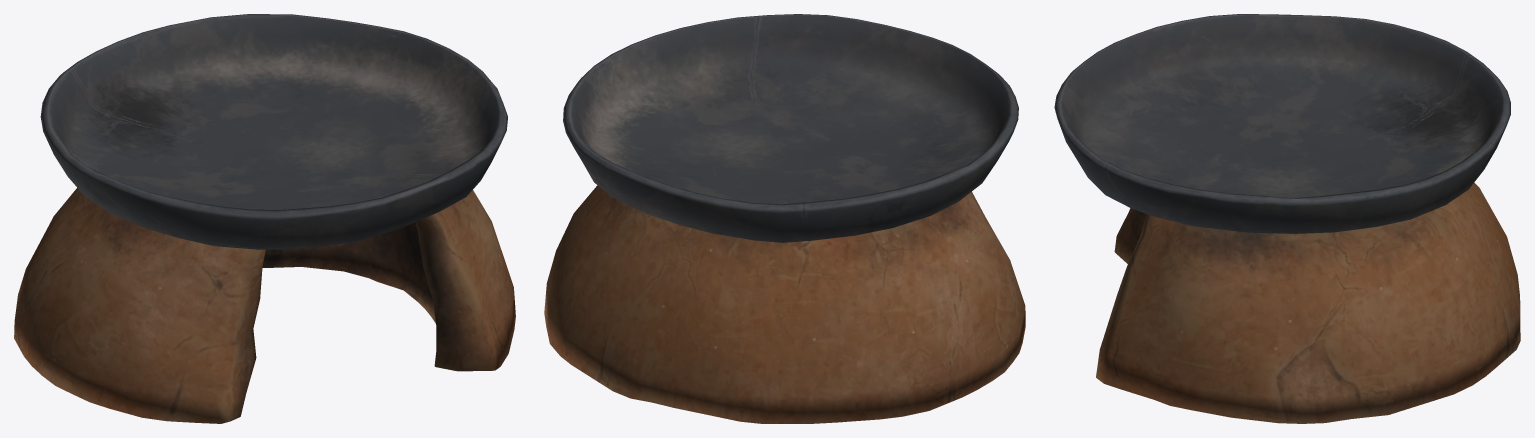
The model's file is SM_Horno.glb.
3 views of the same model, side by side, from view 1: azimuth 30°, elevation 25°; view 2: azimuth 150°, elevation 25°; view 3: azimuth 270°, elevation 25° (orthographic). The views are drawn at different scales.
Parts seen in each view (by area): view 1: SM_Horno; view 2: SM_Horno; view 3: SM_Horno.
Boxes of the visible parts, x1,y1,x2,y2 form: SM_Horno: [14, 14, 515, 423]; SM_Horno: [544, 14, 1025, 423]; SM_Horno: [1054, 14, 1520, 423].
Size of the model in its own units: 1.14 by 0.5619 by 1.07.
1 material, 1 textured.
